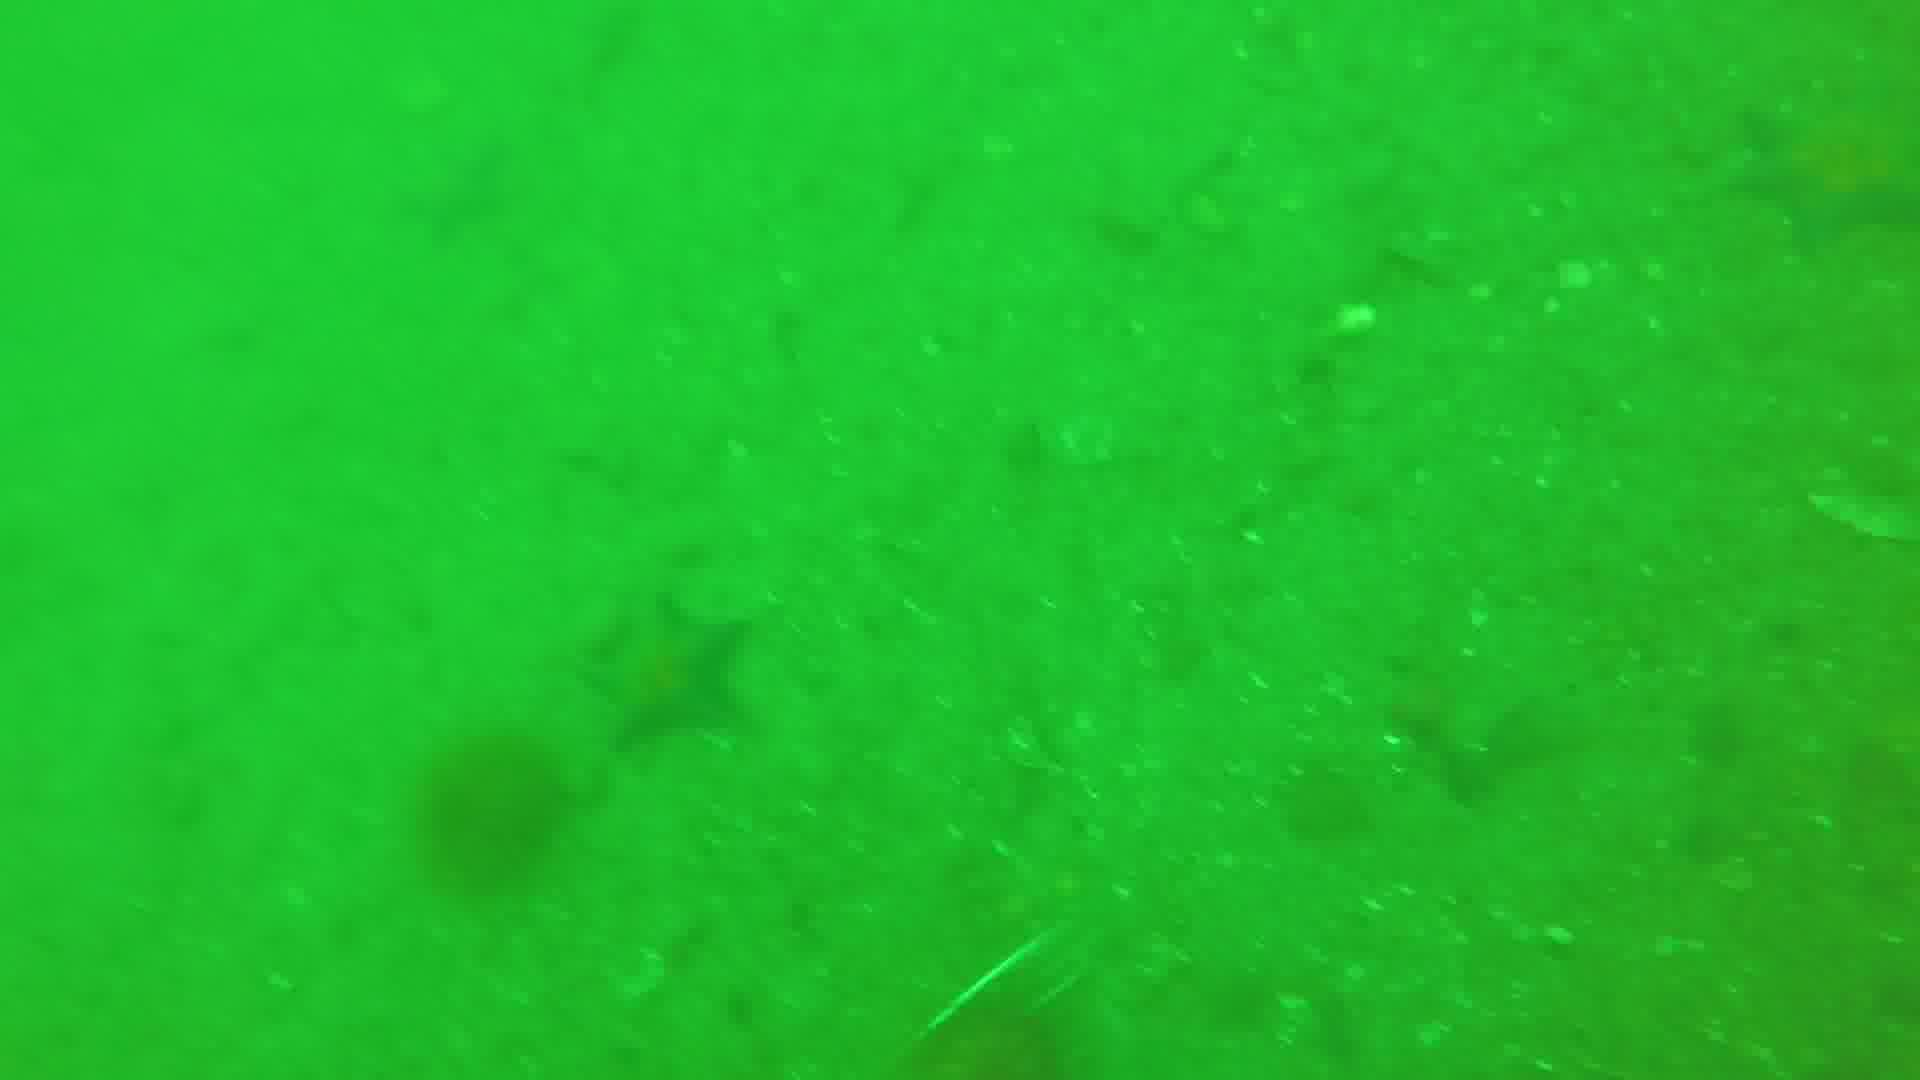echinus: (411, 719, 578, 891)
scallop: (1179, 195, 1247, 236), (1320, 305, 1382, 345), (1563, 255, 1600, 297)
starfish: (1742, 88, 1920, 258), (576, 584, 744, 750), (398, 145, 500, 228)
